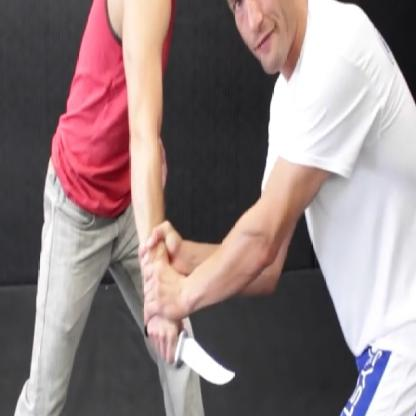knife: (138, 320, 240, 396)
